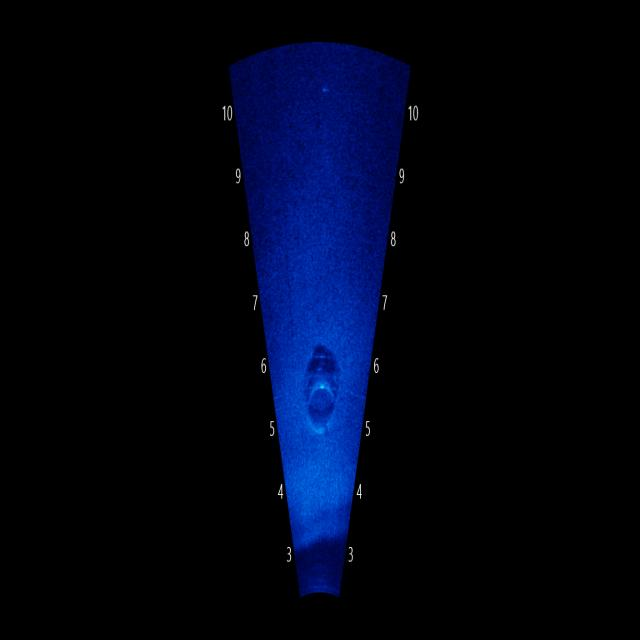circle: (302, 358, 338, 449)
